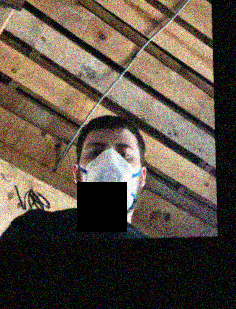with_mask: (77, 135, 139, 216)
